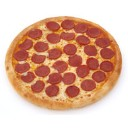pepperonipizza: (5, 15, 123, 111)
